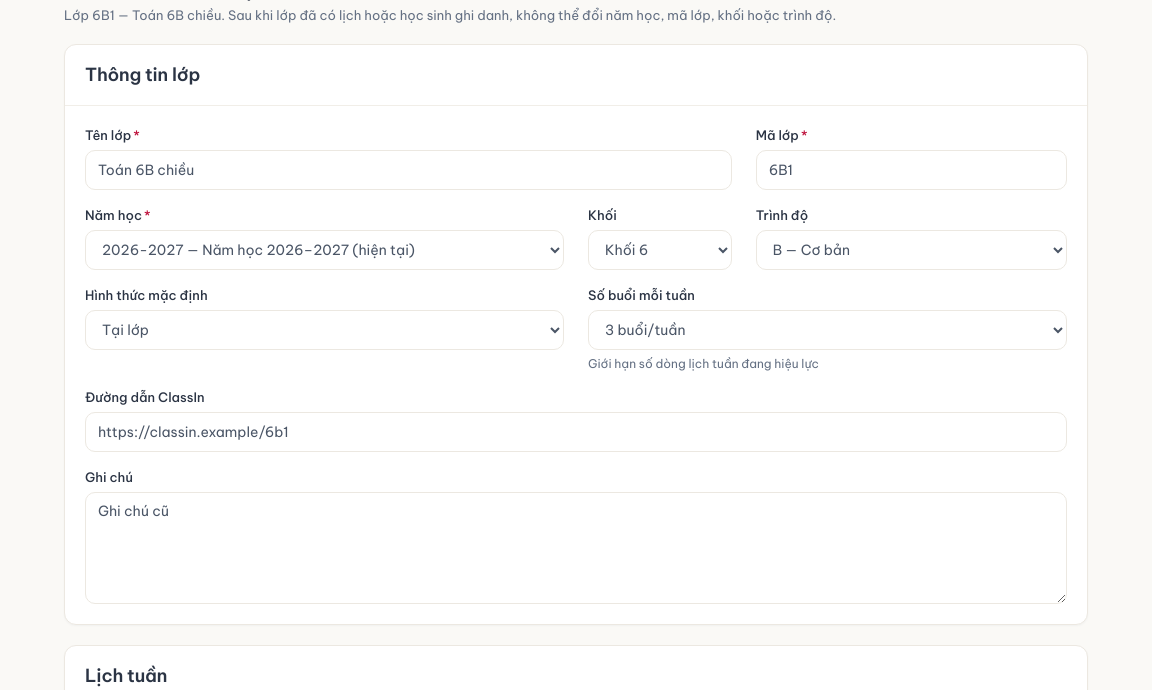
Test case: ClassFormPage — create › keeps the edit form and the reason when the update cannot reach the server
Replace the text in the field labelled "Tên lớp" with "Toán 6B tối" at (408, 170), box [85,150,732,190]
(page scrolled)
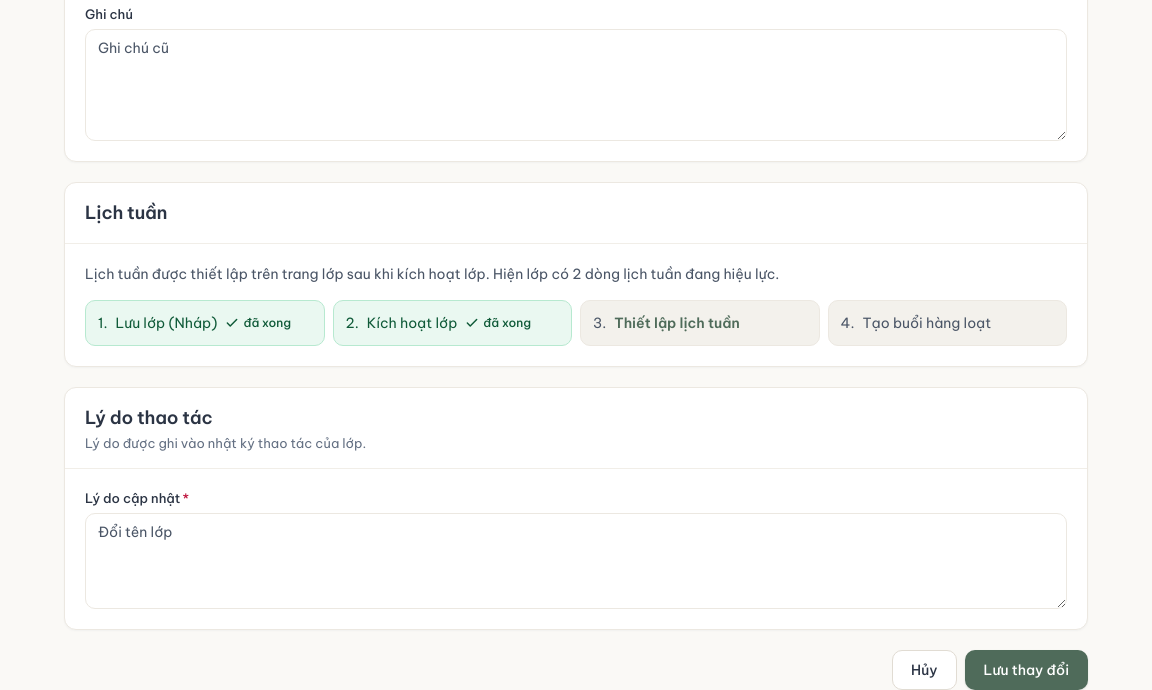
Click the button "Lưu thay đổi" at (1026, 670), box [965,650,1088,689]
(page scrolled)
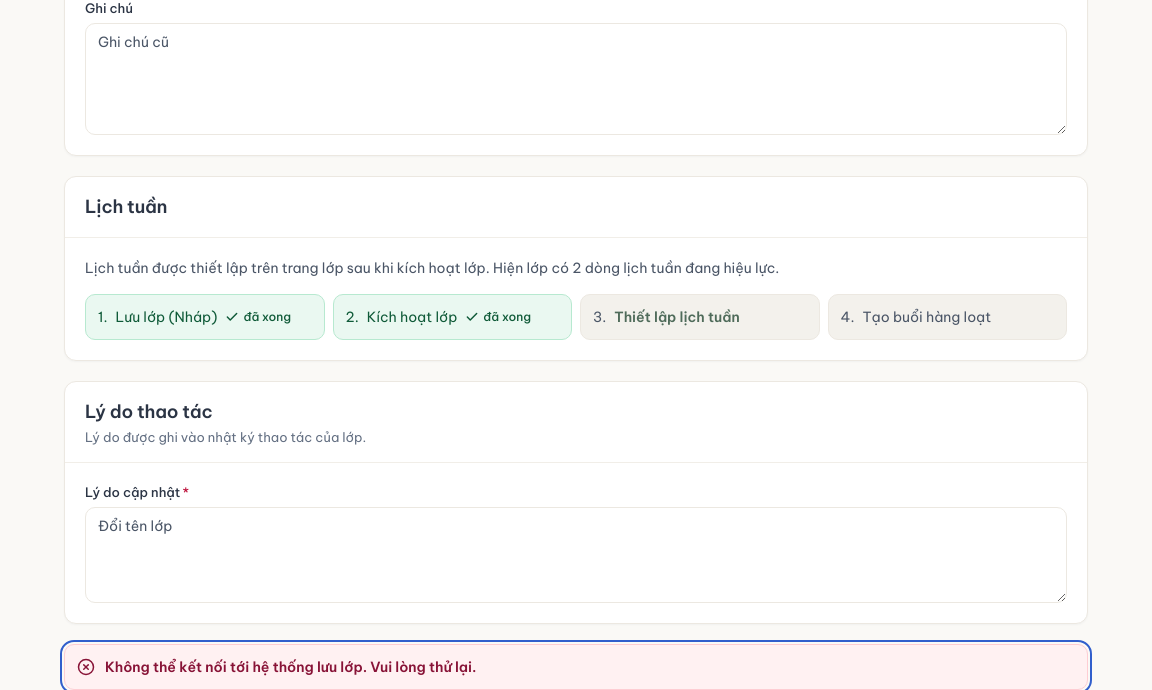
Expected: the text box labelled "Lý do cập nhật" holds "Đổi tên lớp", [85,507,1067,603]
Result: the text "Không thể kết nối tới hệ thống lưu lớp. Vui lòng thử lại." is shown at [105,658,476,676]
